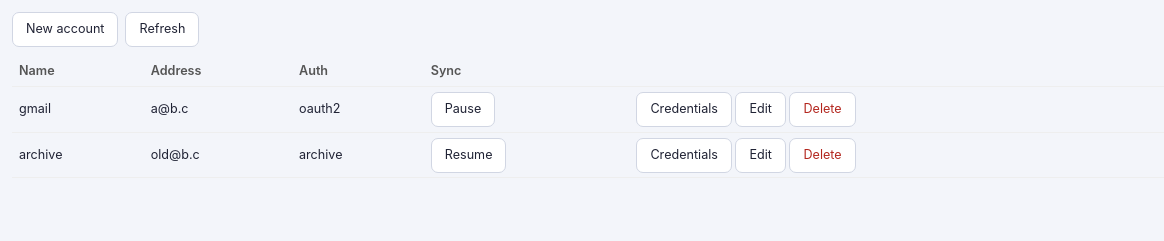
Test case: AccountsPanel › expands the credentials row for a password account
Click the button with test id "open-secrets-1". click: click(684, 109)
box: [636,92,732,127]
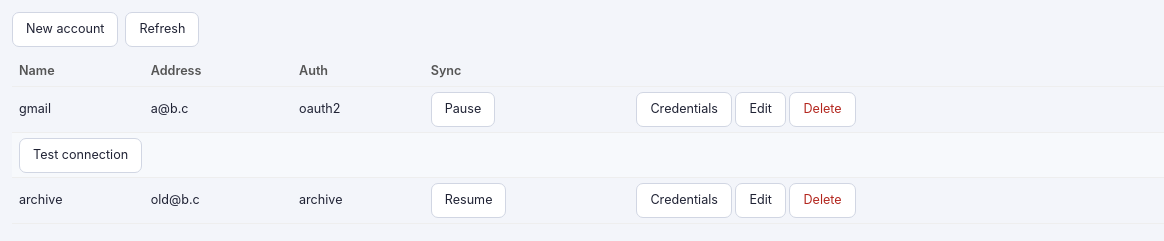
Result: the button with test id "secrets-test-connection" is shown at [19,138,142,172]
